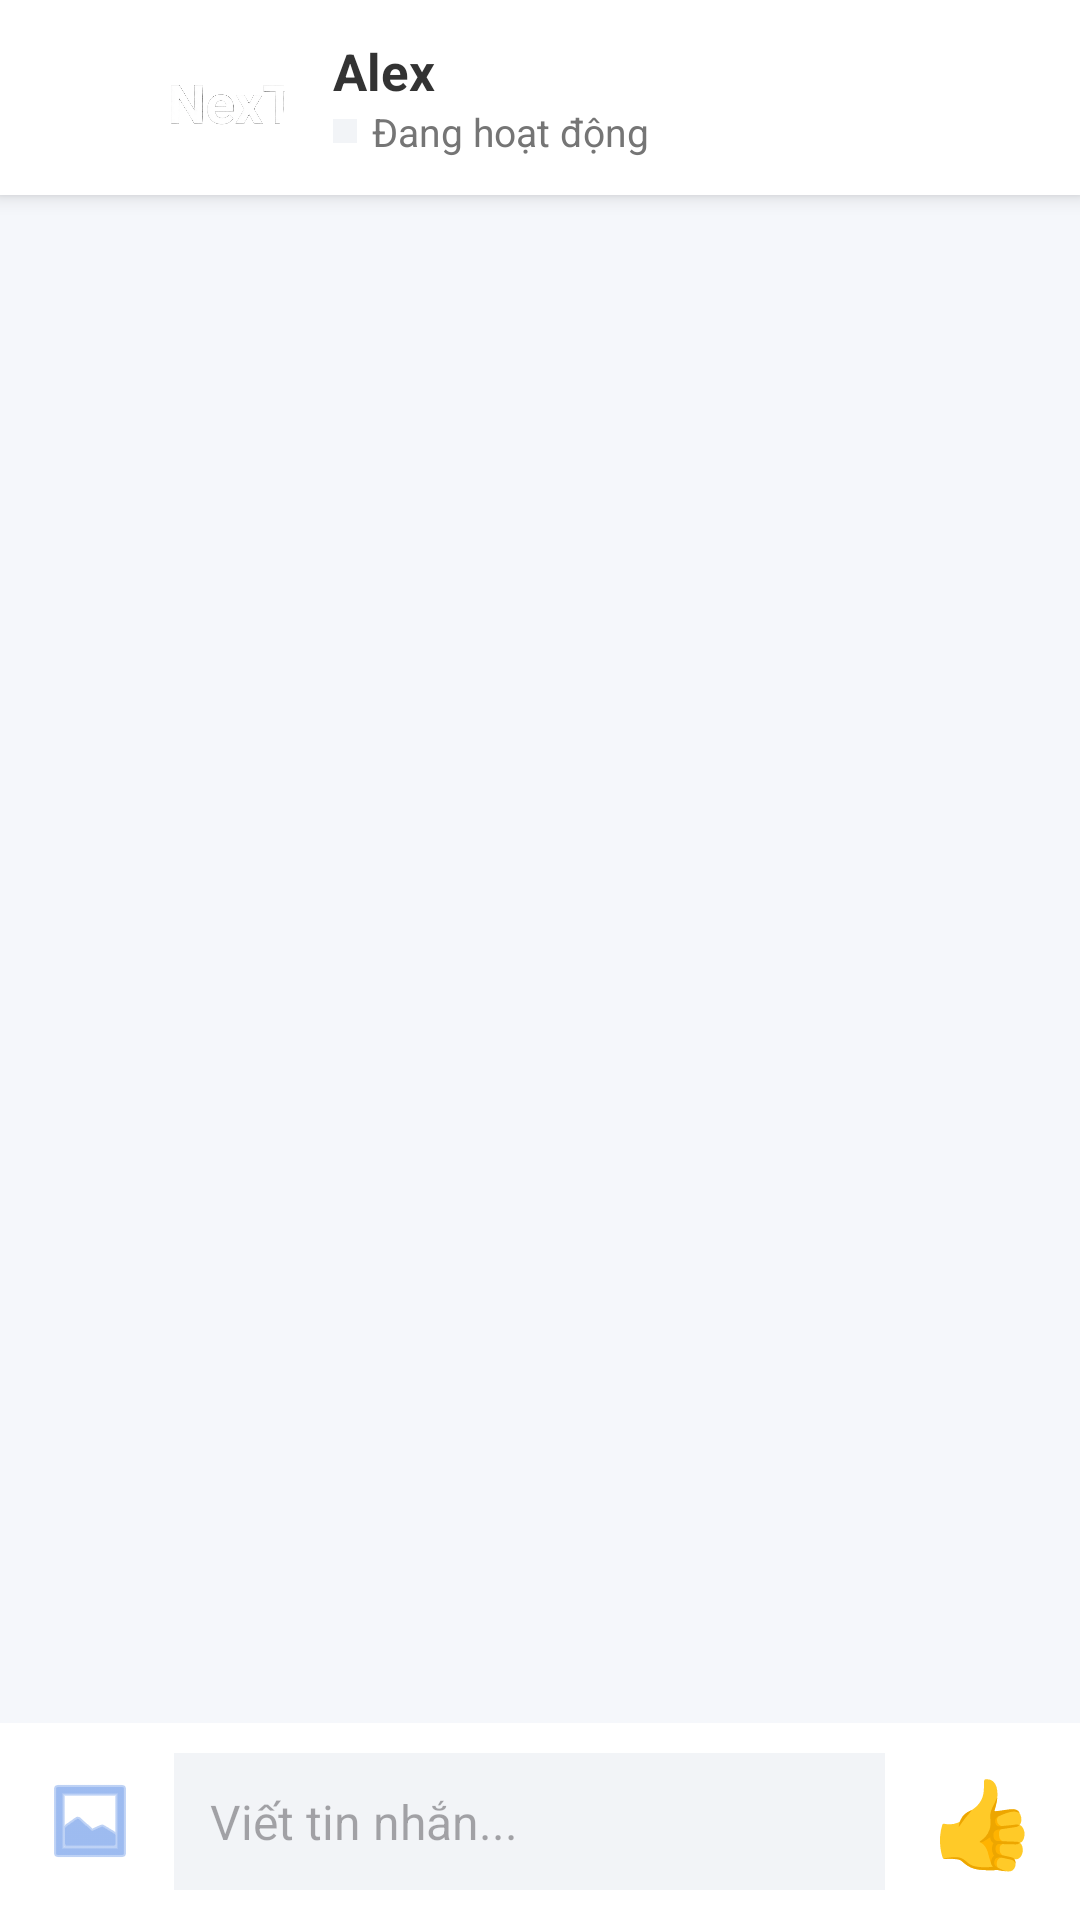

Icon bounding boxes for this 1080×1920 phone screenshot, format box(x1, y1, x2, y2):
gallery: box(54, 1785, 126, 1857)
